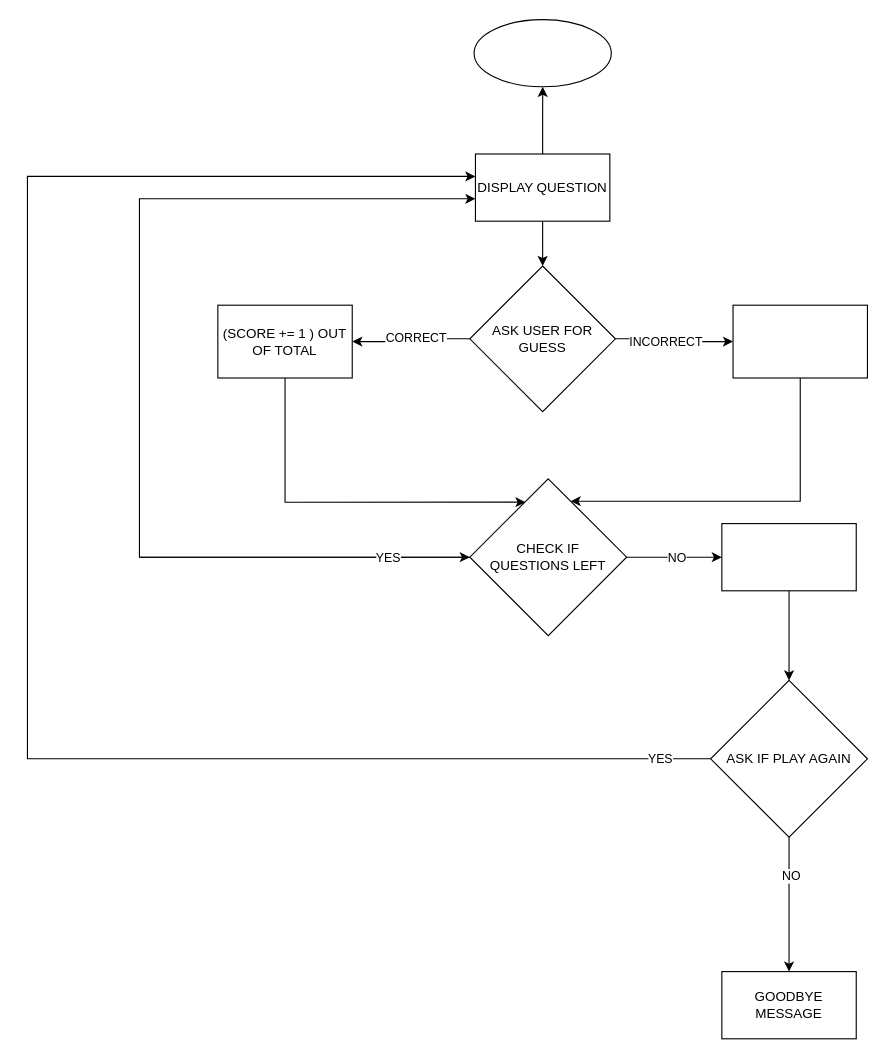
The diagram is 887 pixels wide and 1058 high, and some of its shapes have lost their labels. The box of each missing label's shape, as (x1, y1, x2, y2) in pixels:
GAME OVER DISPLAY SCORE: (721, 522, 856, 591)
SCORE OUT OF TOTAL: (732, 304, 867, 378)
START: (473, 18, 611, 87)
